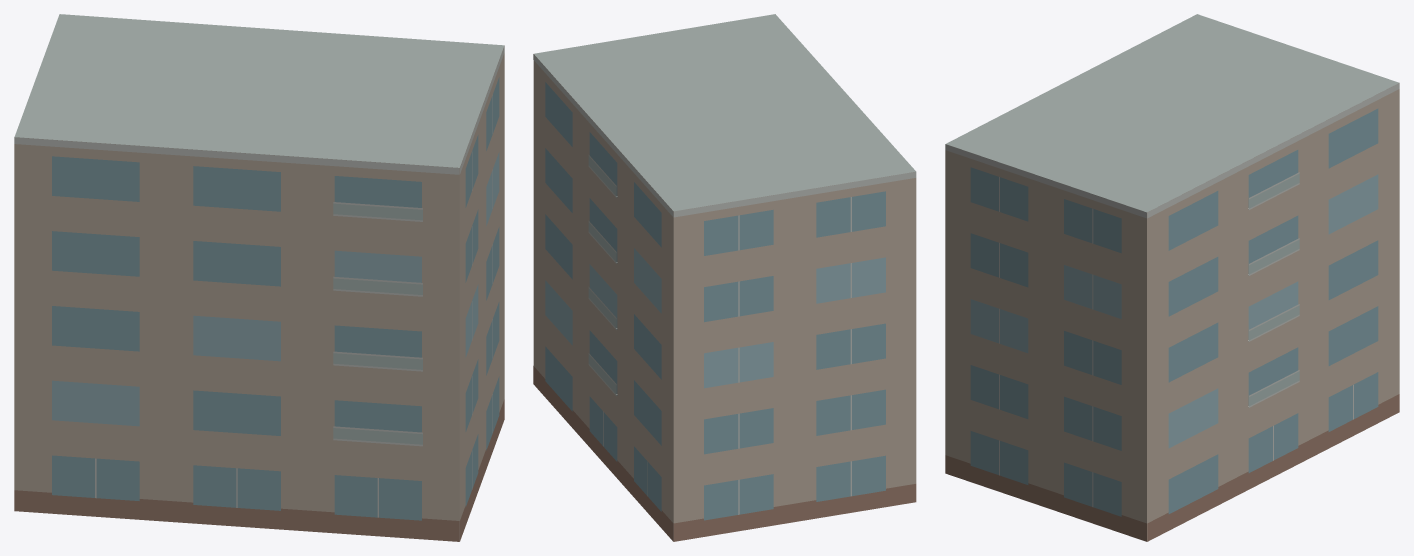
Rendered from survey-upis-32892778.glb.
3 renders of one model, left to right at view 1: azimuth 30°, elevation 25°; view 2: azimuth 150°, elevation 25°; view 3: azimuth 270°, elevation 25°, orthographic. The views are drawn at different scales.
Visible parts, largest first — view 1: survey-upis-32892778.tmp; view 2: survey-upis-32892778.tmp; view 3: survey-upis-32892778.tmp.
Boxes of the visible parts, bbox=[...] form: survey-upis-32892778.tmp: bbox=[14, 14, 504, 541]; survey-upis-32892778.tmp: bbox=[533, 14, 916, 541]; survey-upis-32892778.tmp: bbox=[945, 14, 1399, 541].
Bounding box in the file's own units: 17.06 × 13.2 × 16.5.
